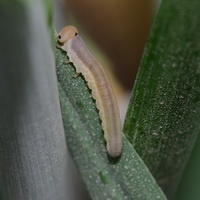insect: (58, 26, 121, 156)
